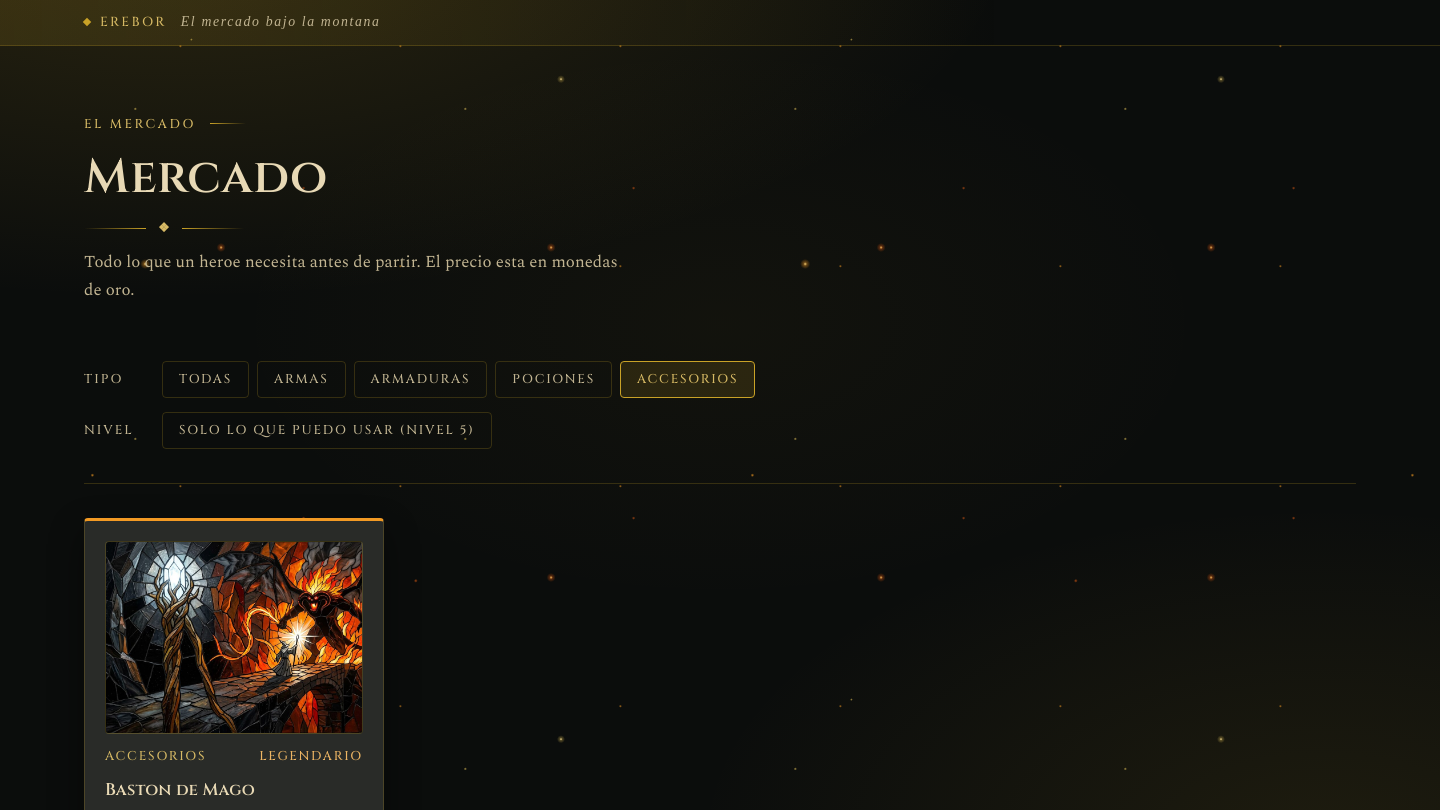
Test case: Catalogo › con un jugador dentro › avisa cuando ningun objeto cumple el filtro
Click the button "Solo lo que puedo usar (nivel 5)" at (327, 430), box [162,412,492,449]
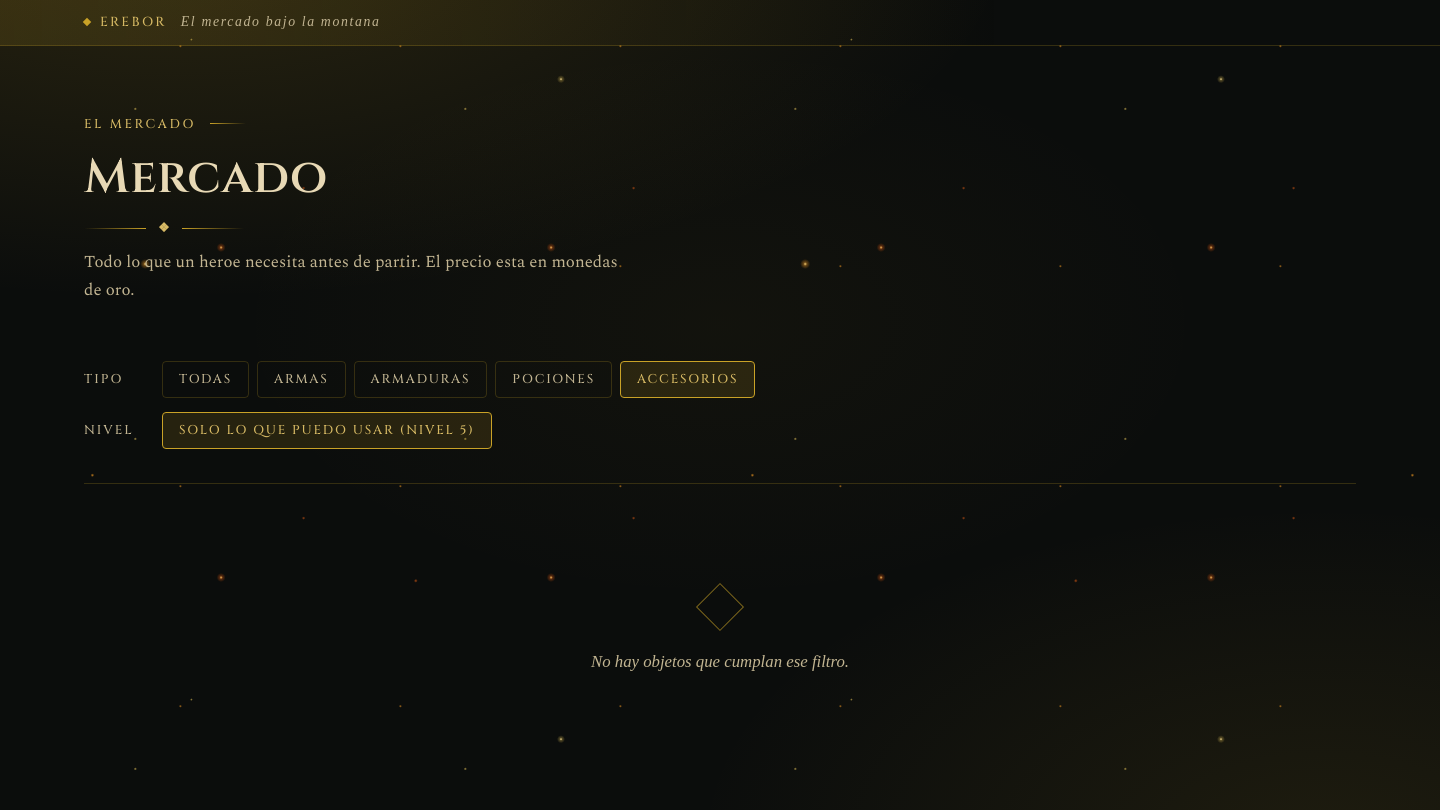
Expected: the text "No hay objetos que cumplan ese filtro." is shown, [591,652,849,671]
